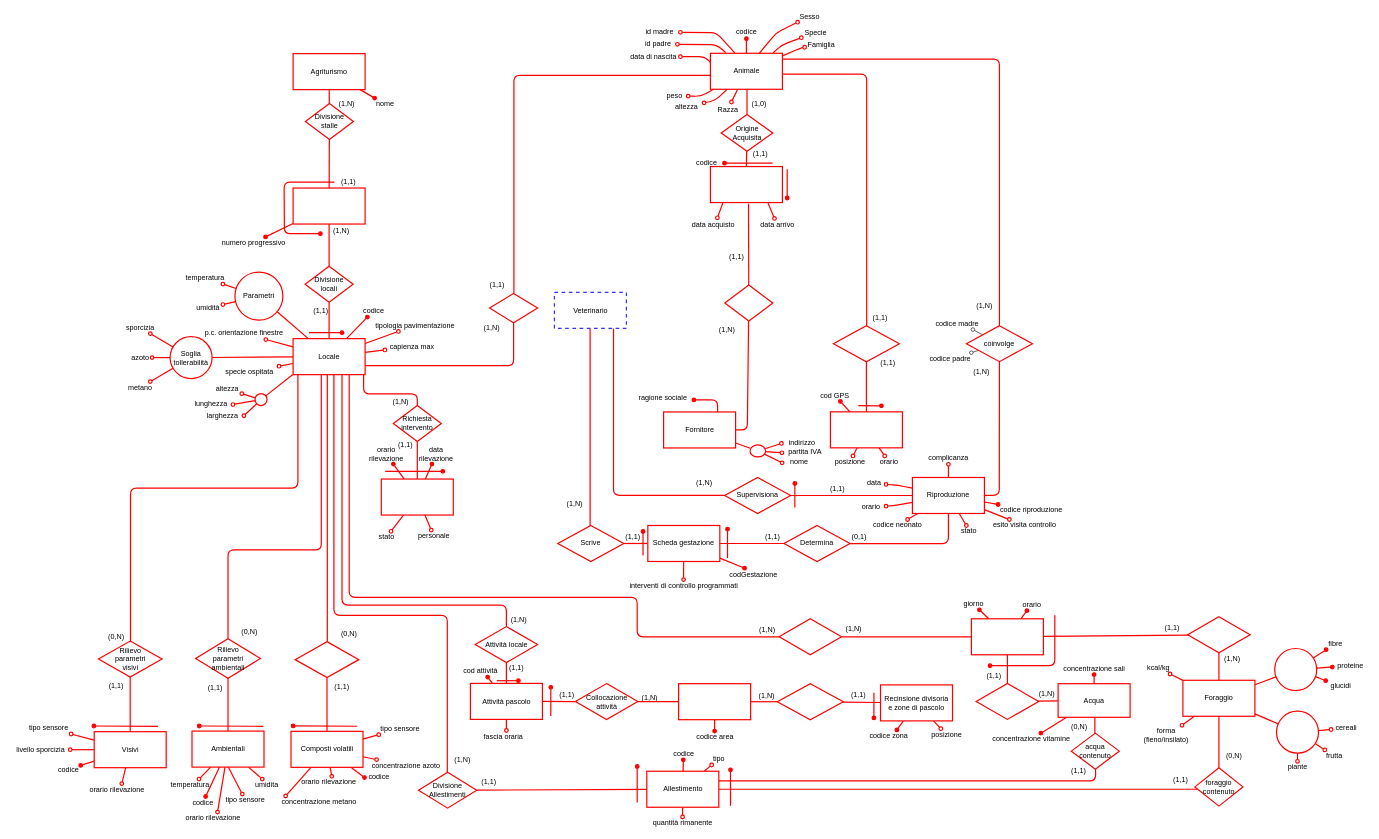
The diagram is 1379 pixels wide and 839 high, and some of its shapes have lost their labels. Here are the shapes that lost their labels. From the top down, the centre of each, then its label:
the point at 746,184: Animale Acquisito
the point at 328,205: Stalla
the point at 513,307: abita
the point at 748,302: acquisto animale
the point at 866,343: Localizzato
the point at 866,429: GPS
the point at 417,496: pulizia locale
the point at 810,636: Composizione pasto
the point at 1007,636: Pasto
the point at 1218,634: composizione foraggio
the point at 326,659: Rilievo composti volatili
the point at 1295,669: quantità
the point at 714,701: Area pascolo
the point at 810,701: Divisione pascolo
the point at 1007,701: composizione acqua
the point at 1297,731: percentuale
